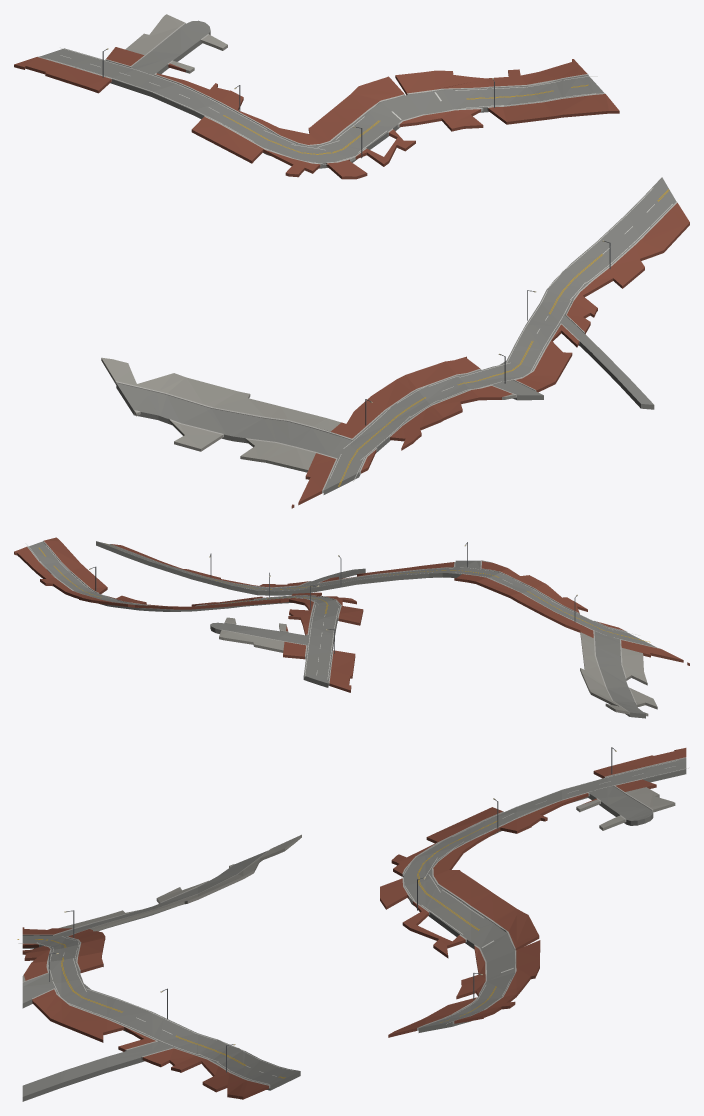
The picture shows the model from 3 angles, top to bottom: view 1: azimuth 30°, elevation 25°; view 2: azimuth 150°, elevation 25°; view 3: azimuth 270°, elevation 25°; orthographic projection. The views are drawn at different scales.
Bounding box in the file's own units: 148 × 56.19 × 149.
